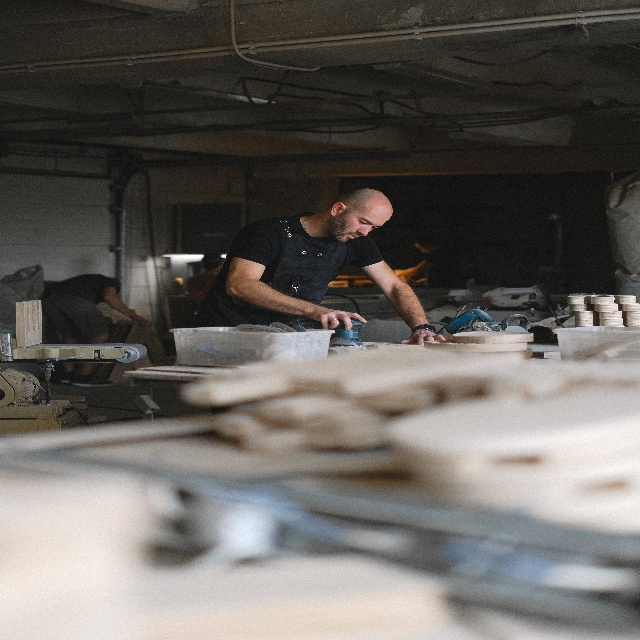Sin_guantes: (313, 303, 368, 333), (400, 328, 446, 345)
